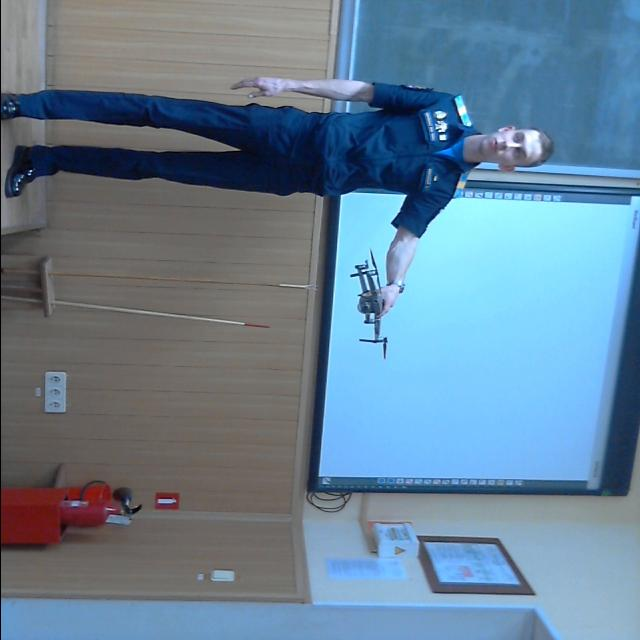drone: (334, 247, 404, 361)
